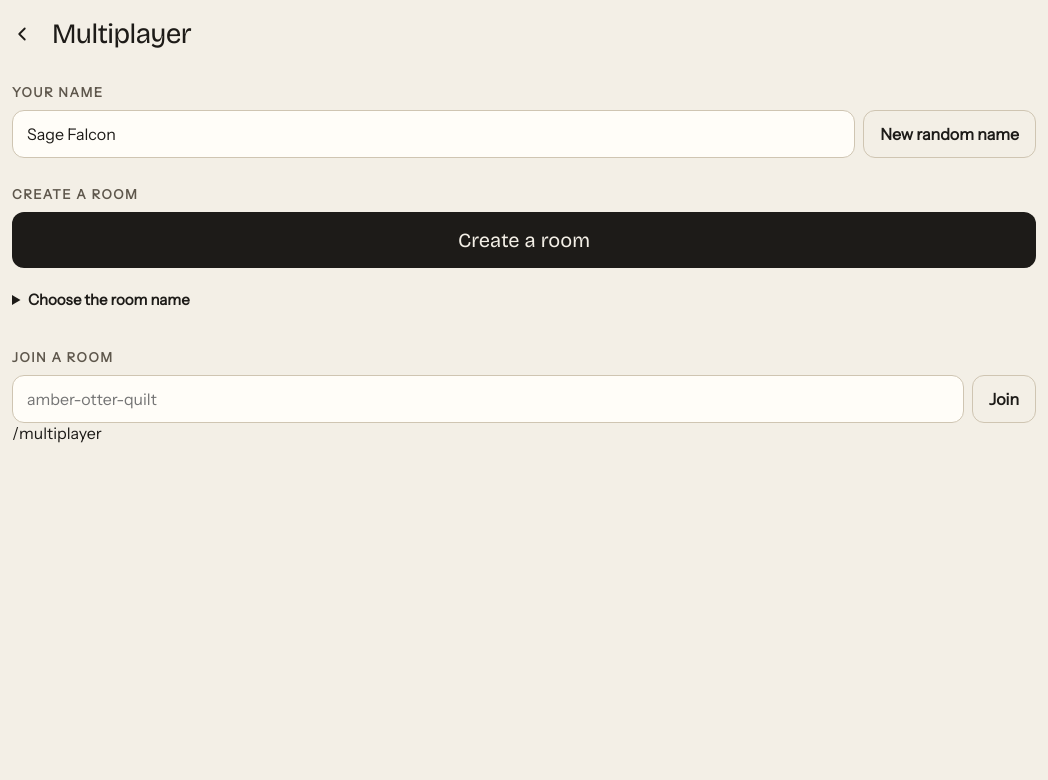
Test: the Multiplayer screen › creates a room with a chosen name, and says when it is in use
Click the heading "Choose the room name": (109, 300) [28,290,190,309]
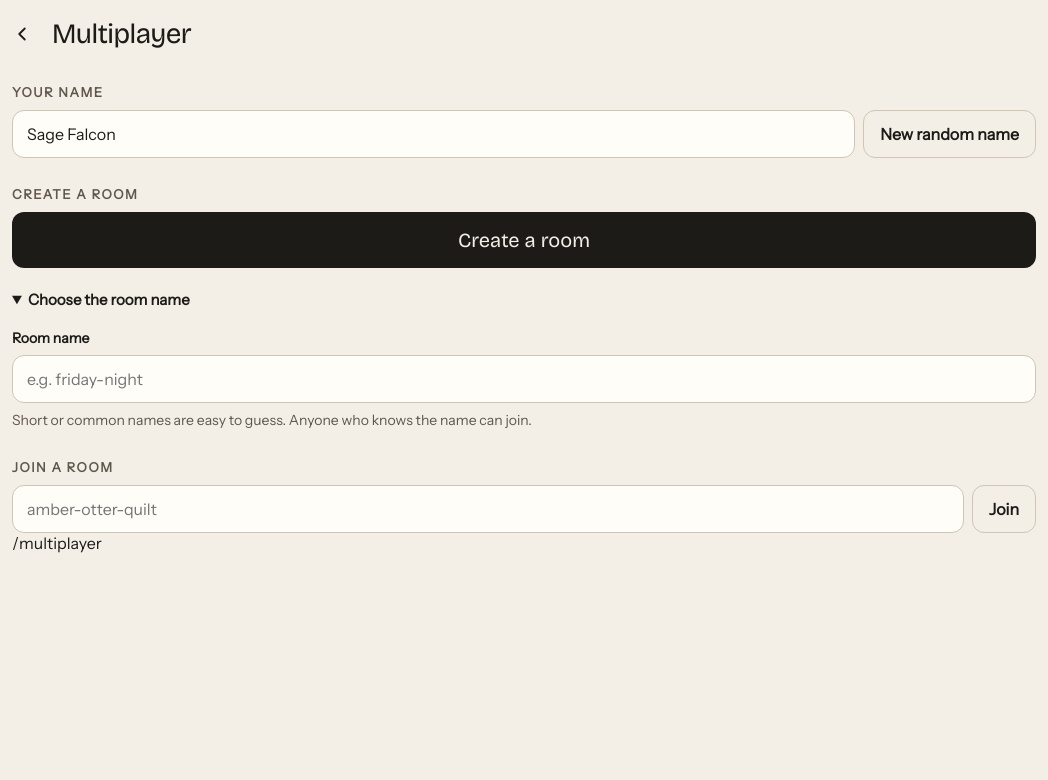
In the field labelled "Room name": (524, 379) [12,355,1036,403], type "Friday Night"
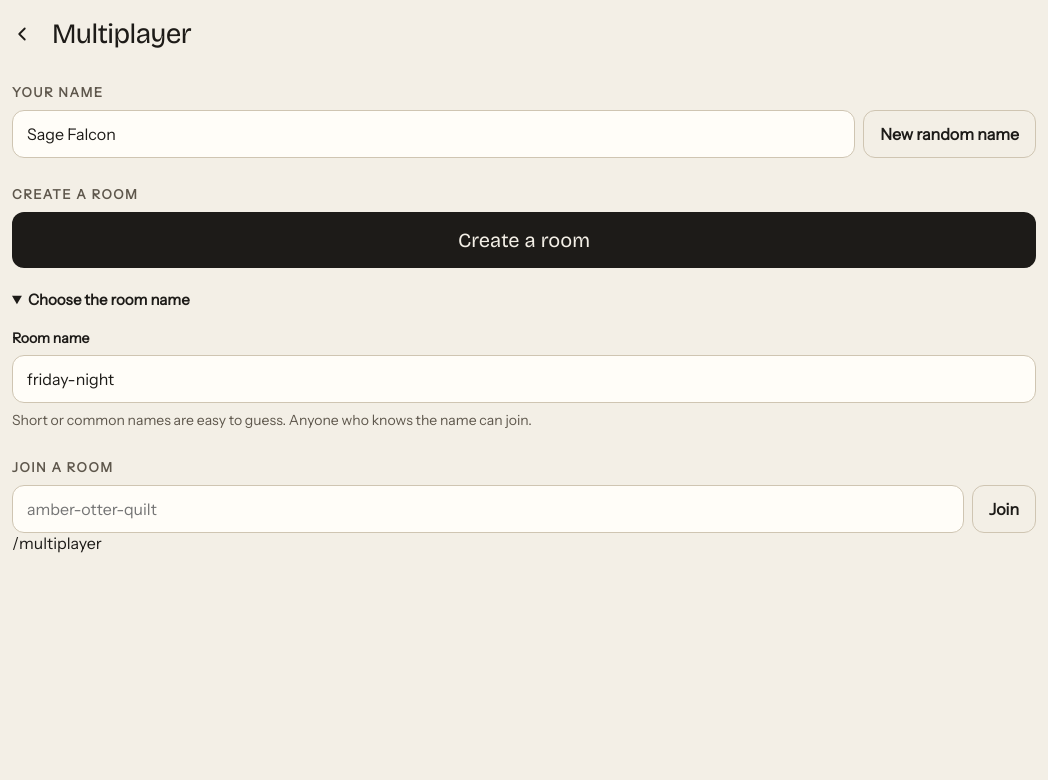
expect the field labelled "Room name" holds "friday-night": met, box [12,355,1036,403]
Click the button "Create a room": (524, 240) [12,212,1036,268]
Wait 100 ms
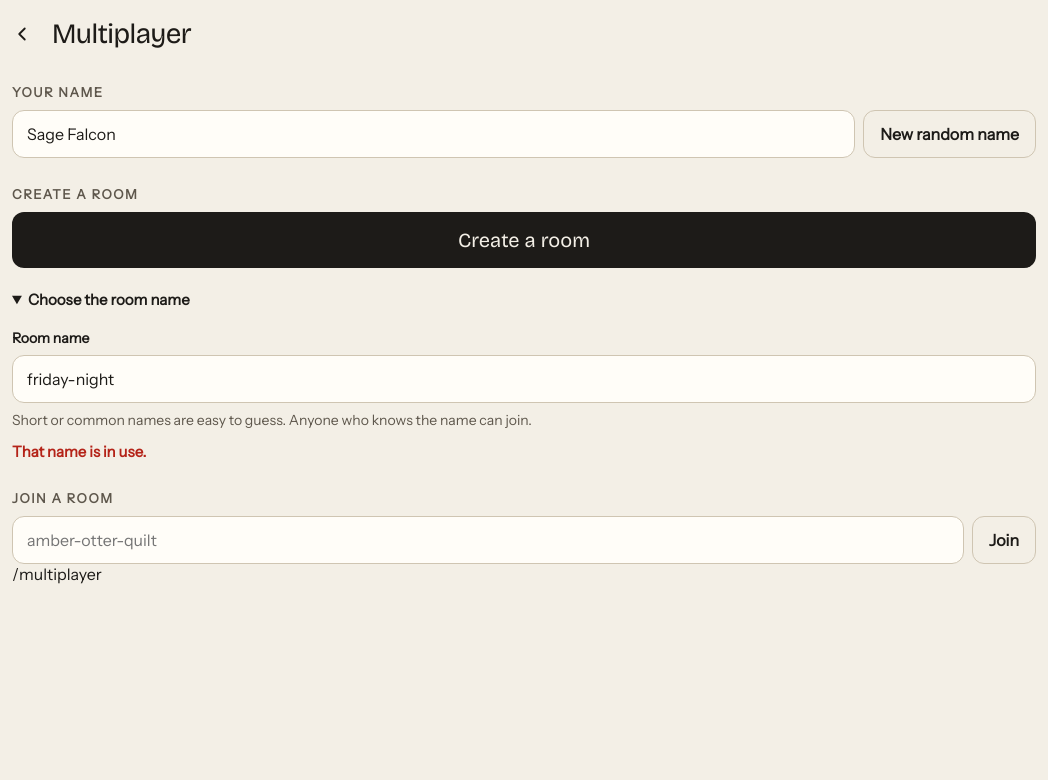
expect the message reads "That name is in use.": met, box [12,442,146,461]
Replace the text in the field labelled "Room name" with "saturday": (524, 379) [12,355,1036,403]
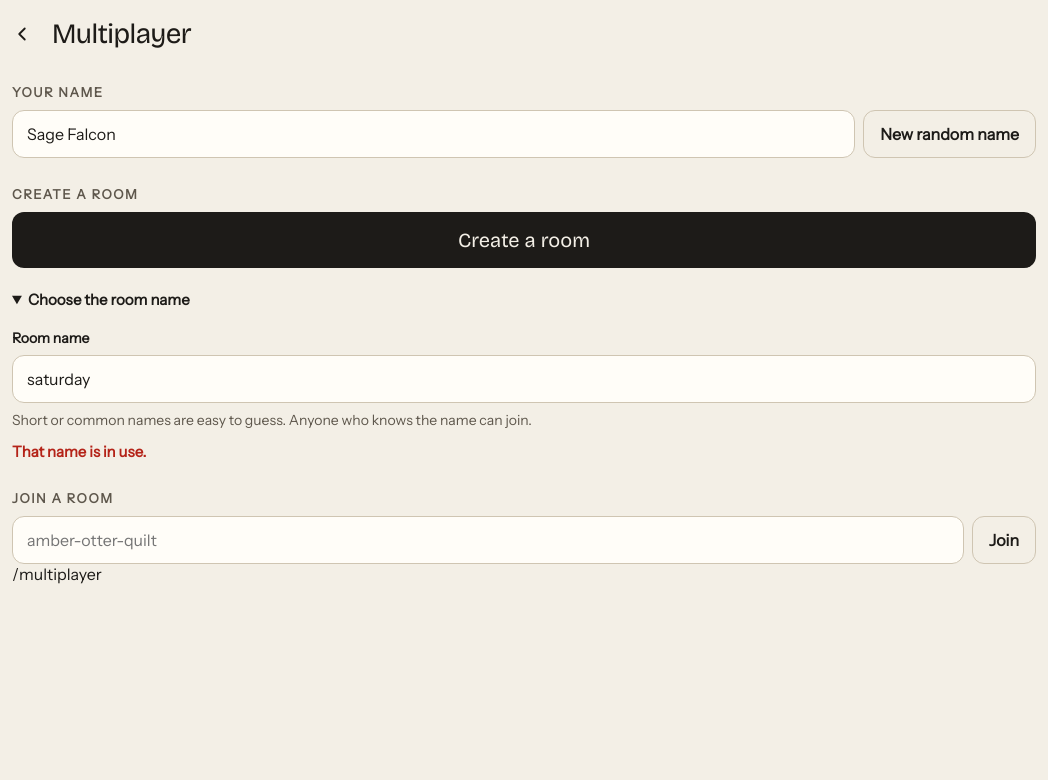
Click the button "Create a room": (524, 240) [12,212,1036,268]
Wait 100 ms
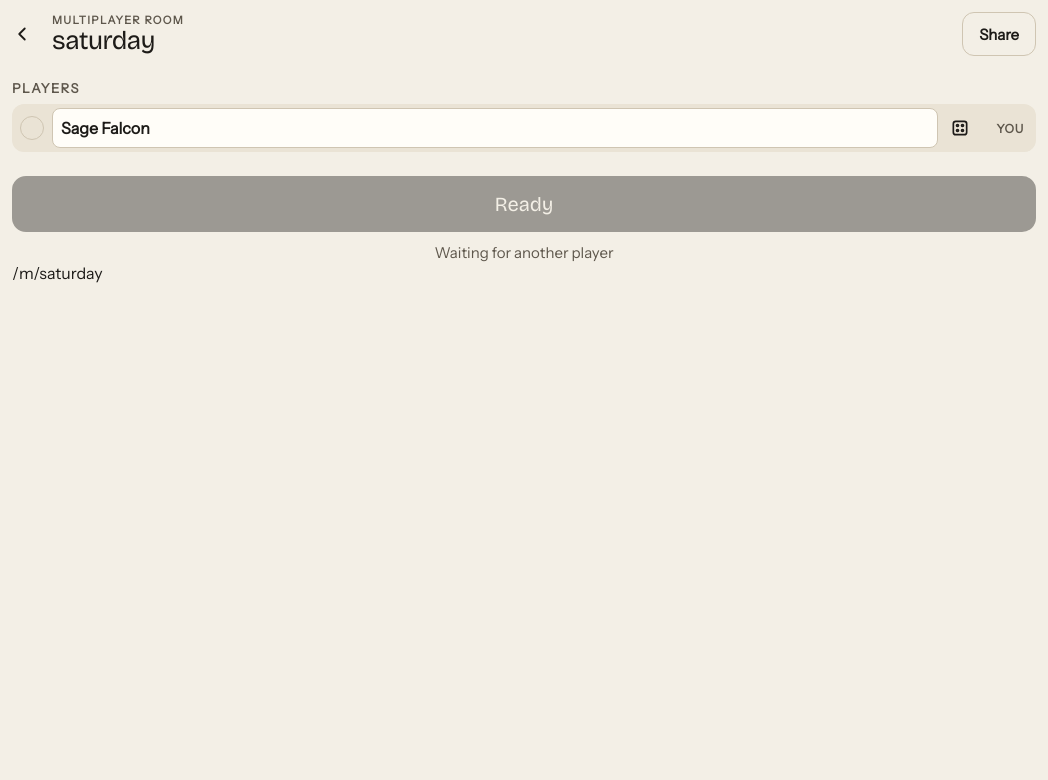
expect the text with test id "path" reads "/m/saturday": met, box [12,263,103,283]
